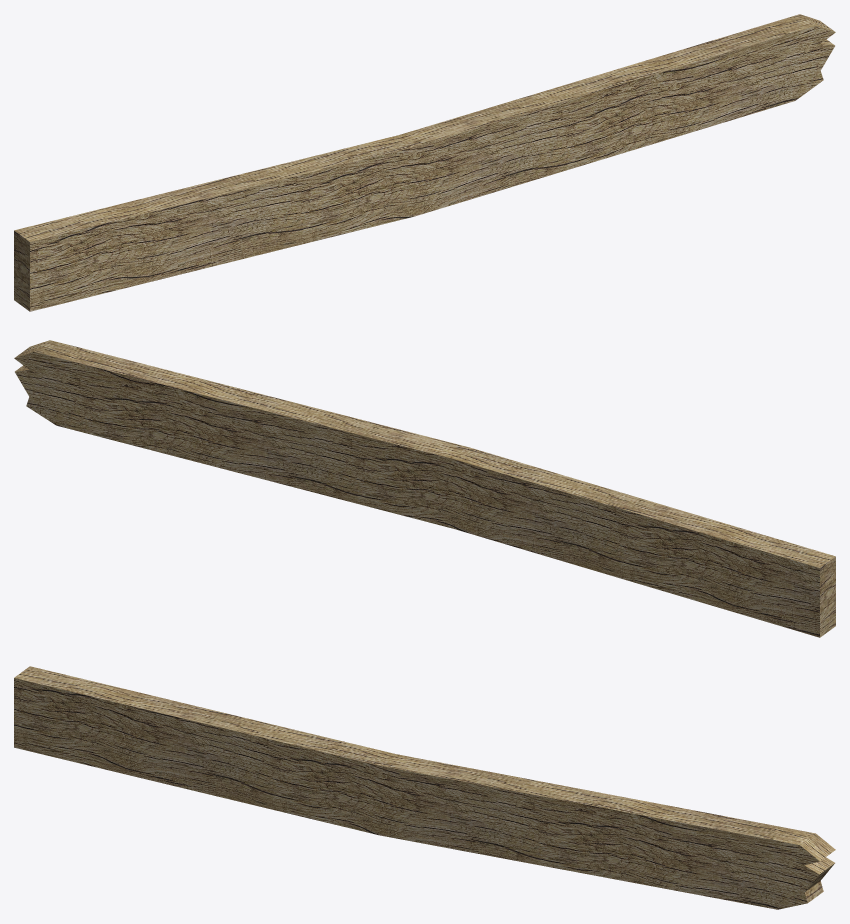
Rendered from woodenPlank03.FBX.
3 renders of one model, top to bottom at view 1: azimuth 30°, elevation 25°; view 2: azimuth 150°, elevation 25°; view 3: azimuth 330°, elevation 25°, orthographic.
Visible parts, largest first — view 1: wooden_fence_plank_small2; view 2: wooden_fence_plank_small2; view 3: wooden_fence_plank_small2.
Boxes of the visible parts, x1,y1,x2,y2 form: wooden_fence_plank_small2: (14, 14, 835, 311); wooden_fence_plank_small2: (14, 340, 835, 637); wooden_fence_plank_small2: (14, 666, 835, 909).
Size of the model in its own units: 253 by 28.28 by 13.75.
